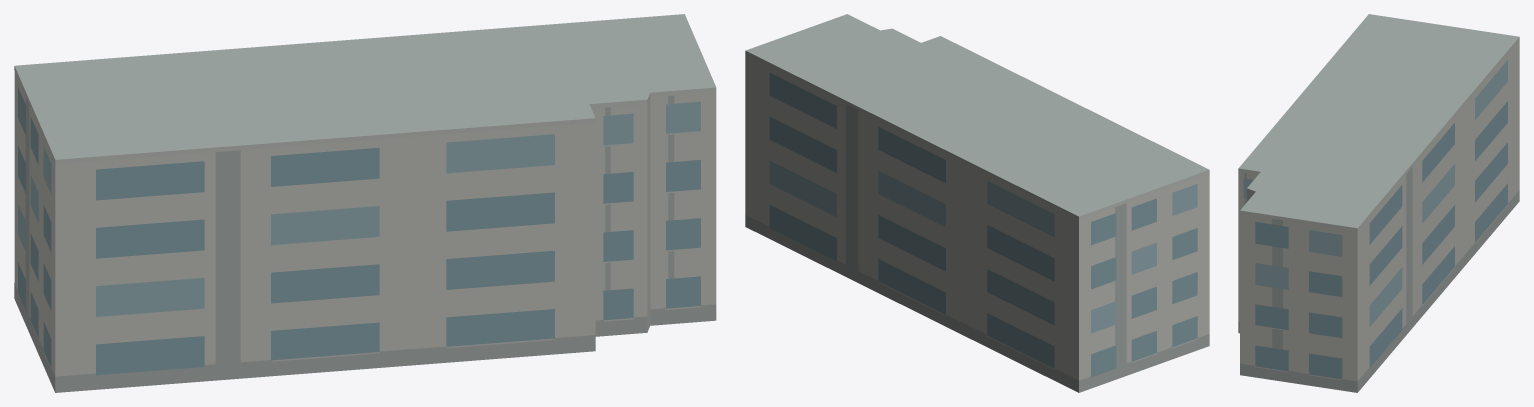
The model's file is residential-ebd3037d-8708-46bc-88fa-cc7f71c6e81d.glb.
3 renders of one model, left to right at view 1: azimuth 30°, elevation 25°; view 2: azimuth 150°, elevation 25°; view 3: azimuth 270°, elevation 25°, orthographic. The views are drawn at different scales.
Visible parts, largest first — view 1: residential-ebd3037d-8708-46bc-88fa-cc7f71c6e81d.tmp; view 2: residential-ebd3037d-8708-46bc-88fa-cc7f71c6e81d.tmp; view 3: residential-ebd3037d-8708-46bc-88fa-cc7f71c6e81d.tmp.
Part boxes in pixels (x1=…): residential-ebd3037d-8708-46bc-88fa-cc7f71c6e81d.tmp: x1=14, y1=14, x2=716, y2=392; residential-ebd3037d-8708-46bc-88fa-cc7f71c6e81d.tmp: x1=745, y1=14, x2=1209, y2=392; residential-ebd3037d-8708-46bc-88fa-cc7f71c6e81d.tmp: x1=1238, y1=14, x2=1519, y2=392.
Size of the model in its own units: 34.05 by 12.2 by 18.89.
